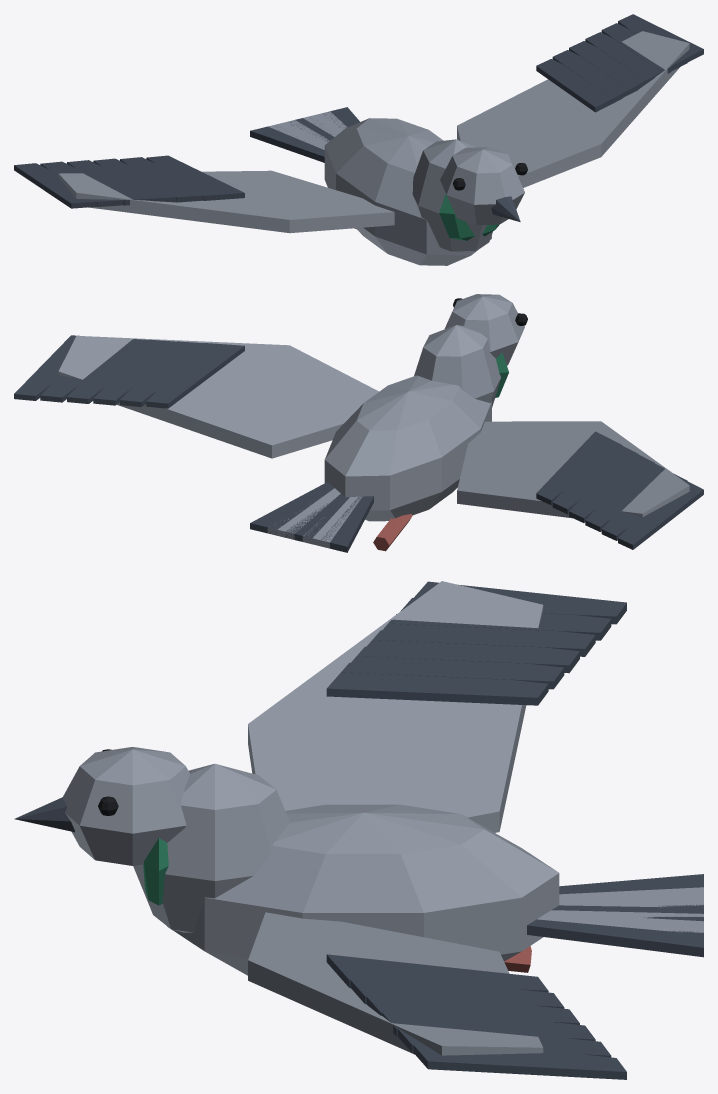
The model's file is pigeon.glb.
The picture shows the model from 3 angles, top to bottom: view 1: azimuth 30°, elevation 25°; view 2: azimuth 150°, elevation 25°; view 3: azimuth 270°, elevation 25°; orthographic projection. The views are drawn at different scales.
Visible parts, largest first — view 1: pigeon body; view 2: pigeon body; view 3: pigeon body.
Boxes of the visible parts, x1,y1,x2,y2 form: pigeon body: [14, 14, 703, 265]; pigeon body: [14, 294, 703, 552]; pigeon body: [14, 581, 703, 1079].
Size of the model in its own units: 0.65 by 0.1518 by 0.395.
